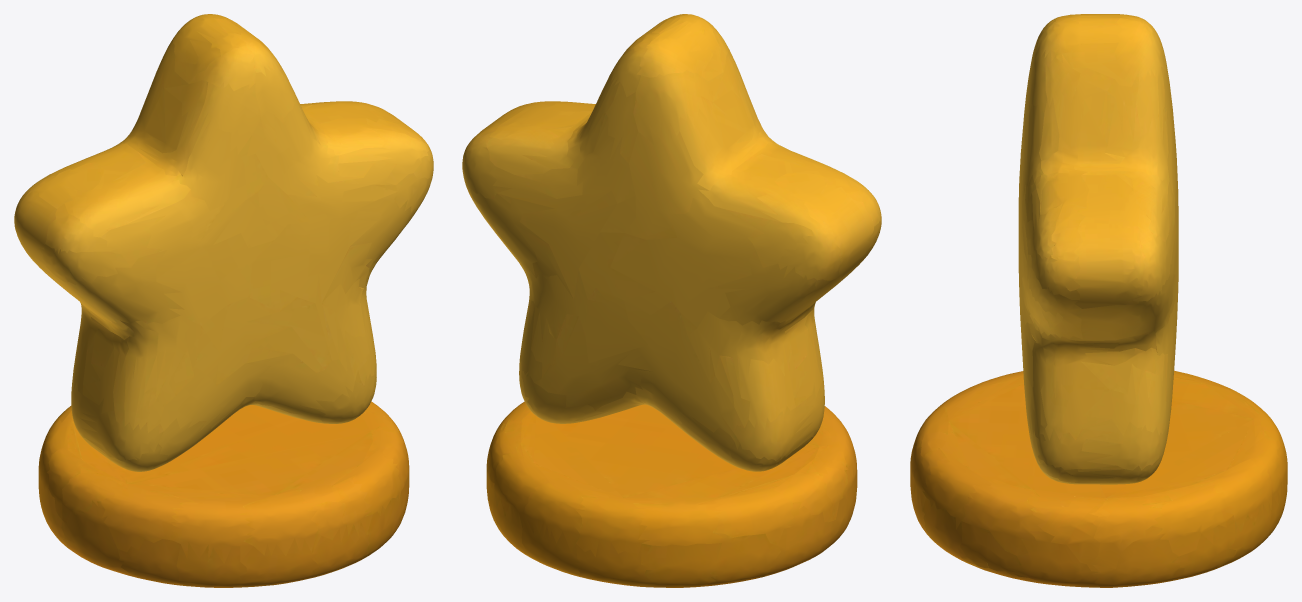
Rendered from ster.glb.
3 renders of one model, left to right at view 1: azimuth 30°, elevation 25°; view 2: azimuth 150°, elevation 25°; view 3: azimuth 270°, elevation 25°, orthographic.
Parts seen in each view (by area): view 1: Mesh_0; view 2: Mesh_0; view 3: Mesh_0.
Part boxes in pixels (<box>): Mesh_0: <box>14,14,433,587</box>; Mesh_0: <box>462,14,881,587</box>; Mesh_0: <box>910,14,1287,587</box>.
Size of the model in its own units: 1.55 by 1.9 by 1.31.
1 material, 1 textured.
